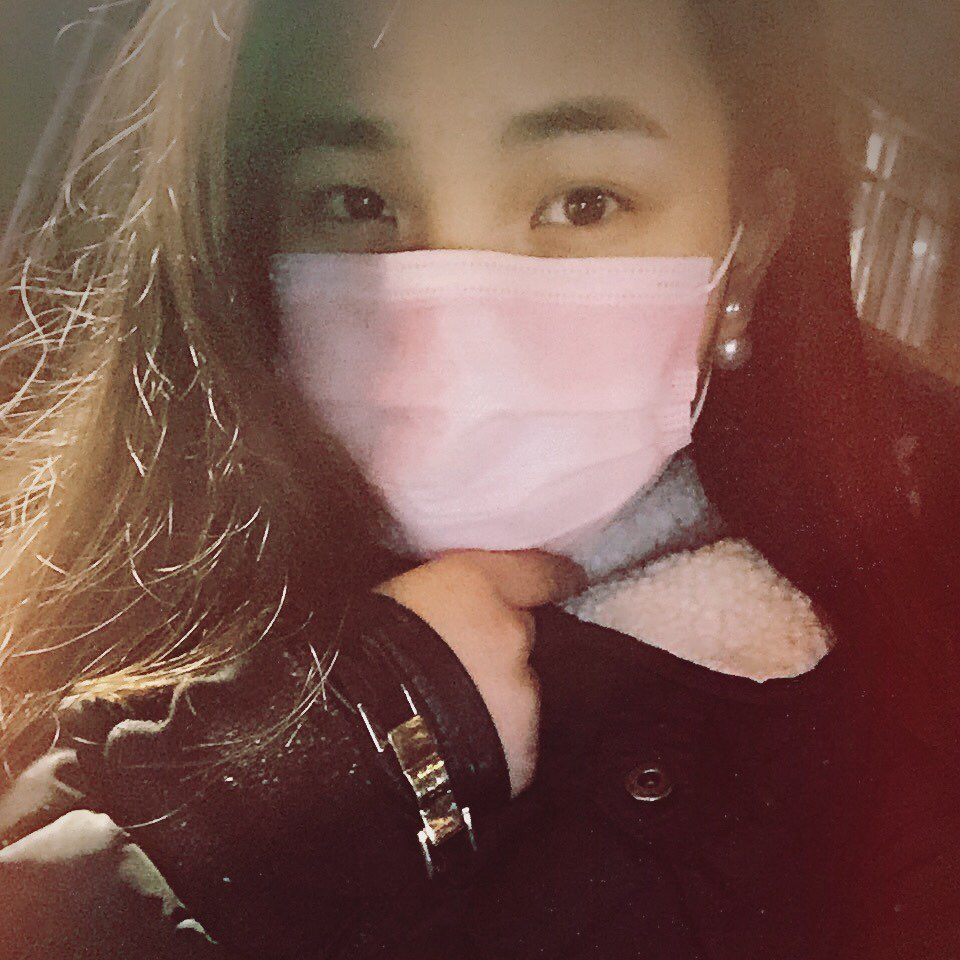face_mask: (253, 0, 717, 539)
